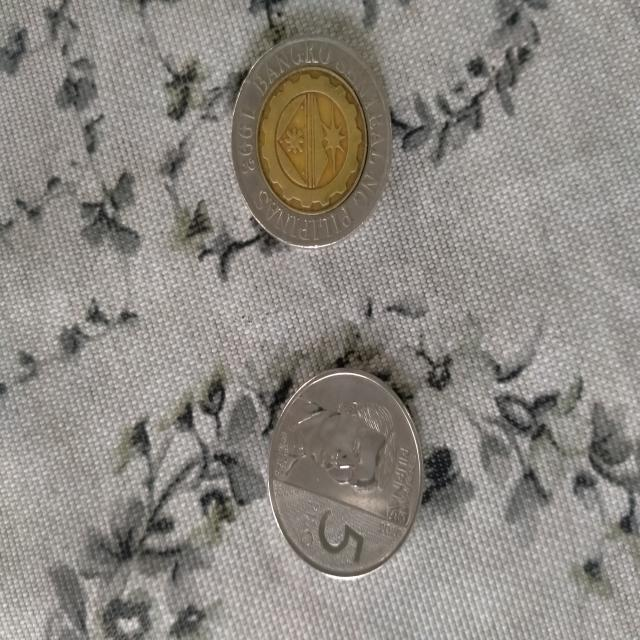10_Old_Back: (230, 34, 388, 243)
5_New_Front: (295, 494, 372, 575)
